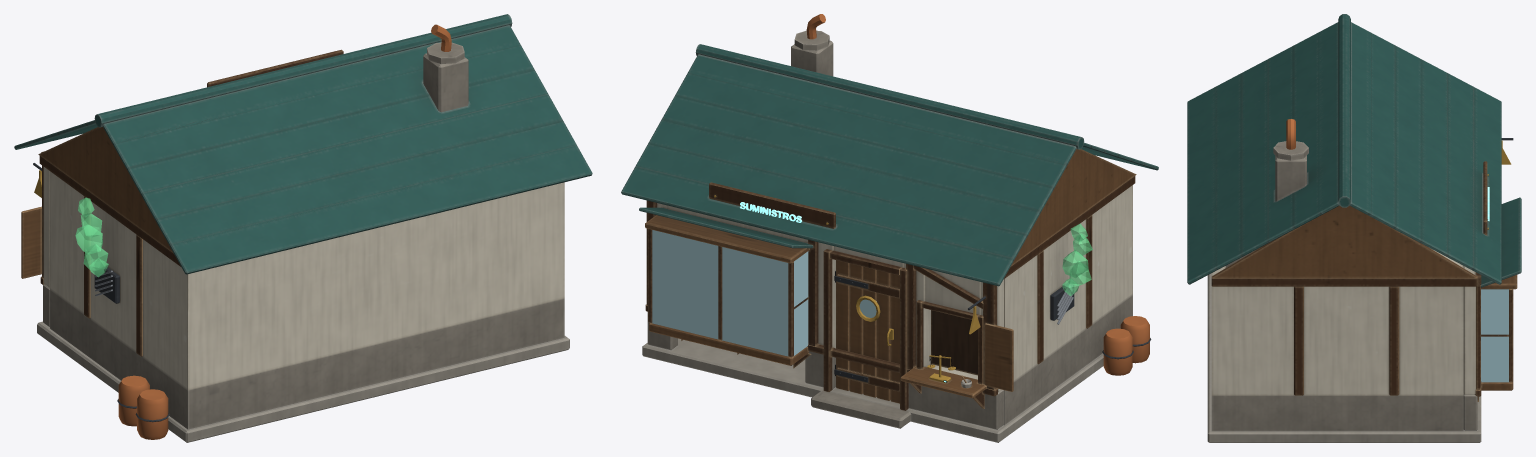
Rendered from tienda_pociones.fbx.
3 renders of one model, left to right at view 1: azimuth 30°, elevation 25°; view 2: azimuth 150°, elevation 25°; view 3: azimuth 270°, elevation 25°, orthographic. The views are drawn at different scales.
Parts seen in each view (by area): view 1: tienda_pociones, tienda_pociones_vapor_neon; view 2: tienda_pociones, tienda_pociones_cristal, tienda_pociones_puerta, tienda_pociones_vapor_neon; view 3: tienda_pociones, tienda_pociones_cristal.
Part boxes in pixels (x1,y1,x2,y2): tienda_pociones: (14, 14, 592, 442); tienda_pociones_vapor_neon: (75, 197, 108, 277); tienda_pociones: (621, 14, 1158, 442); tienda_pociones_cristal: (652, 230, 876, 356); tienda_pociones_puerta: (834, 260, 899, 403); tienda_pociones_vapor_neon: (1062, 223, 1092, 296); tienda_pociones: (1187, 14, 1521, 442); tienda_pociones_cristal: (1481, 289, 1508, 382).
Bounding box in the file's own units: 11.35 × 7.95 × 8.42.
5 materials, 1 textured.
